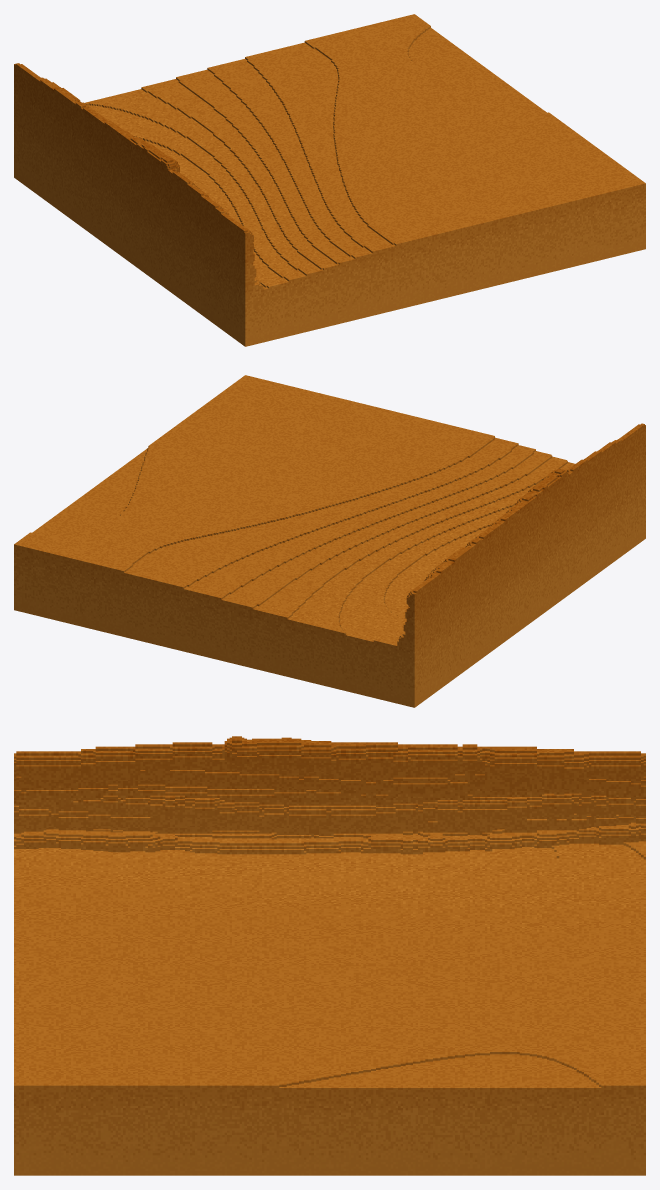
The model's file is Marte-11.obj.
The picture shows the model from 3 angles, top to bottom: view 1: azimuth 30°, elevation 25°; view 2: azimuth 150°, elevation 25°; view 3: azimuth 270°, elevation 25°; orthographic projection. The views are drawn at different scales.
Size of the model in its own units: 25.5 by 7.7 by 25.5.
1 material, 1 textured.
